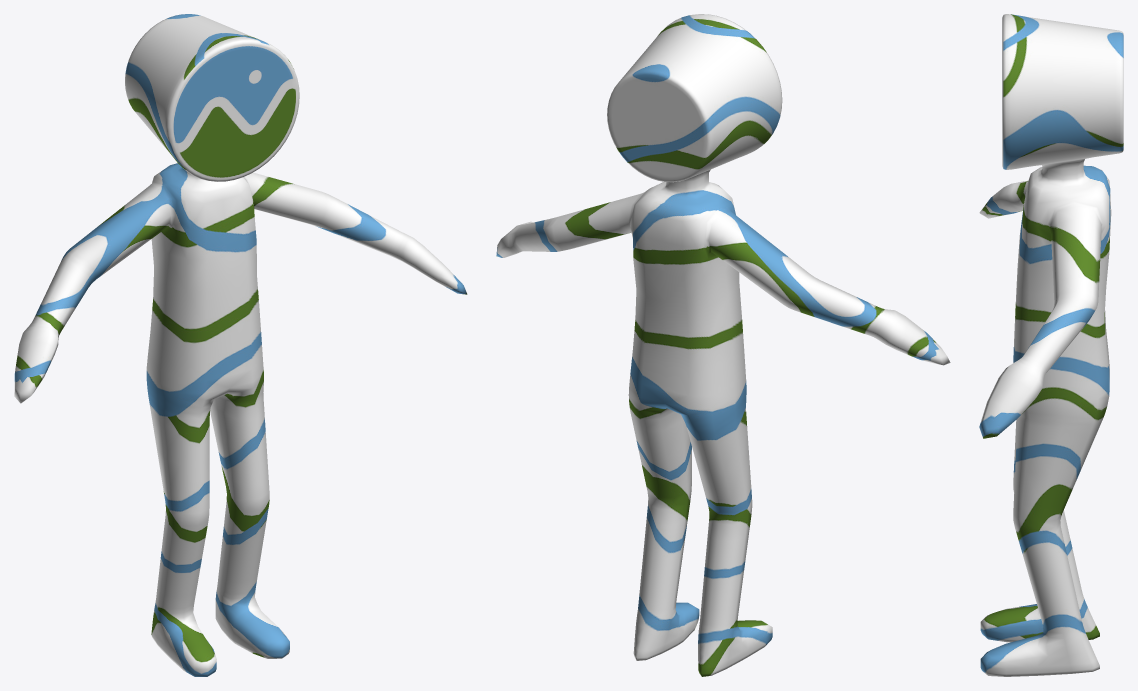
File: CesiumMan.glb
3 renders of one model, left to right at view 1: azimuth 30°, elevation 25°; view 2: azimuth 150°, elevation 25°; view 3: azimuth 270°, elevation 25°, orthographic. The views are drawn at different scales.
Parts seen in each view (by area): view 1: Cesium_Man; view 2: Cesium_Man; view 3: Cesium_Man.
Part boxes in pixels (<box>): Cesium_Man: <box>14,14,467,676</box>; Cesium_Man: <box>496,14,950,676</box>; Cesium_Man: <box>979,14,1123,676</box>.
Size of the model in its own units: 1.14 by 1.51 by 0.312.
1 material, 1 textured.
